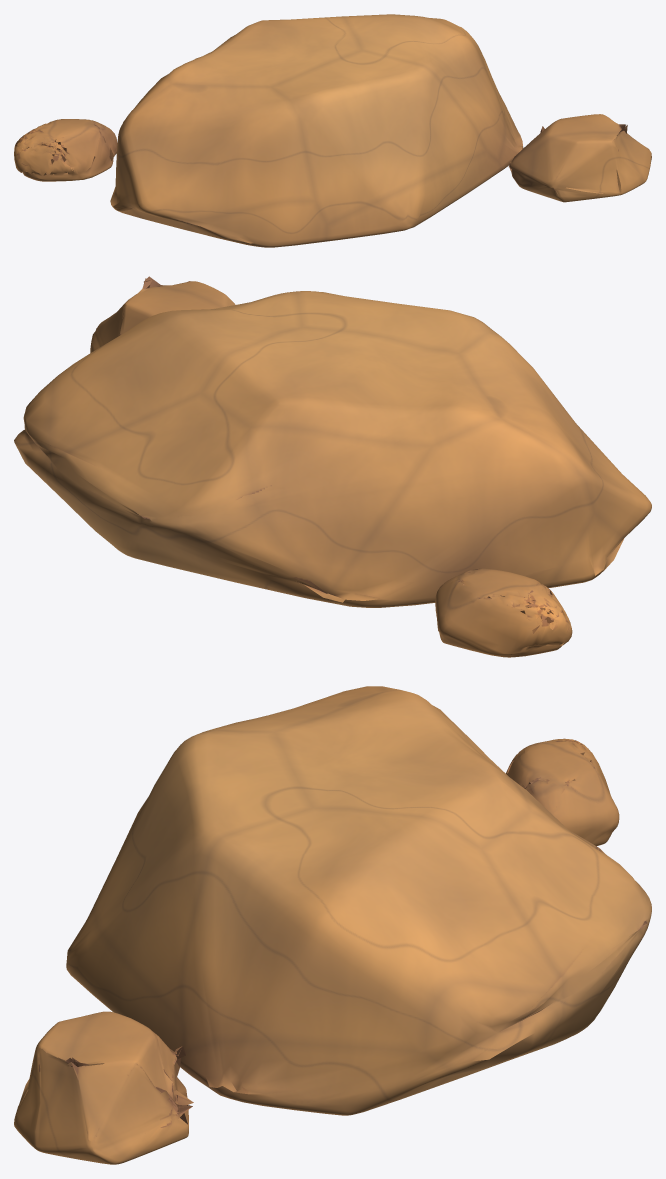
The model's file is SD_P03_Rock_Set_C.fbx.
The picture shows the model from 3 angles, top to bottom: view 1: azimuth 30°, elevation 25°; view 2: azimuth 150°, elevation 25°; view 3: azimuth 270°, elevation 25°; orthographic projection. The views are drawn at different scales.
Parts seen in each view (by area): view 1: Rock_C; view 2: Rock_C; view 3: Rock_C.
Boxes of the visible parts, x1=… form: Rock_C: x1=14, y1=14, x2=651, y2=247; Rock_C: x1=14, y1=276, x2=651, y2=657; Rock_C: x1=14, y1=686, x2=651, y2=1164.
Size of the model in its own units: 1.25 by 0.2982 by 0.8775.
